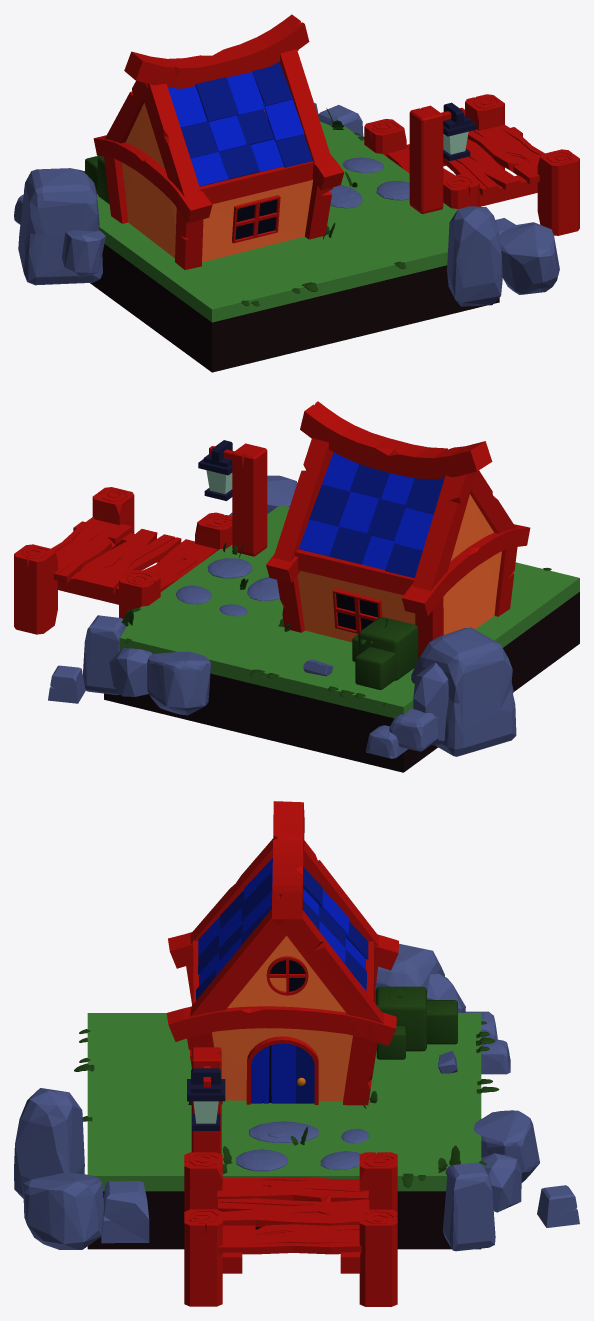
The model's file is casa_color.obj.
The picture shows the model from 3 angles, top to bottom: view 1: azimuth 30°, elevation 25°; view 2: azimuth 150°, elevation 25°; view 3: azimuth 270°, elevation 25°; orthographic projection. The views are drawn at different scales.
Visible parts, largest first — view 1: Cubo.046; view 2: Cubo.046; view 3: Cubo.046.
Boxes of the visible parts, x1=… form: Cubo.046: x1=14, y1=14, x2=579, y2=372; Cubo.046: x1=14, y1=401, x2=579, y2=772; Cubo.046: x1=14, y1=801, x2=579, y2=1306.
Bounding box in the file's own units: 105 × 52.42 × 92.34.
